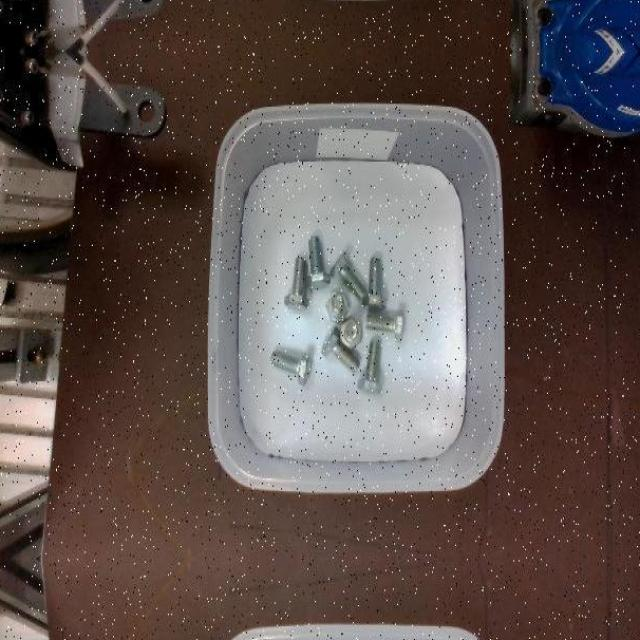screw: (329, 250, 368, 307), (321, 326, 359, 374), (270, 350, 312, 385), (304, 234, 330, 288), (283, 255, 308, 309), (356, 341, 381, 394), (364, 308, 402, 342), (364, 258, 386, 311), (325, 292, 350, 322), (340, 317, 361, 349)
